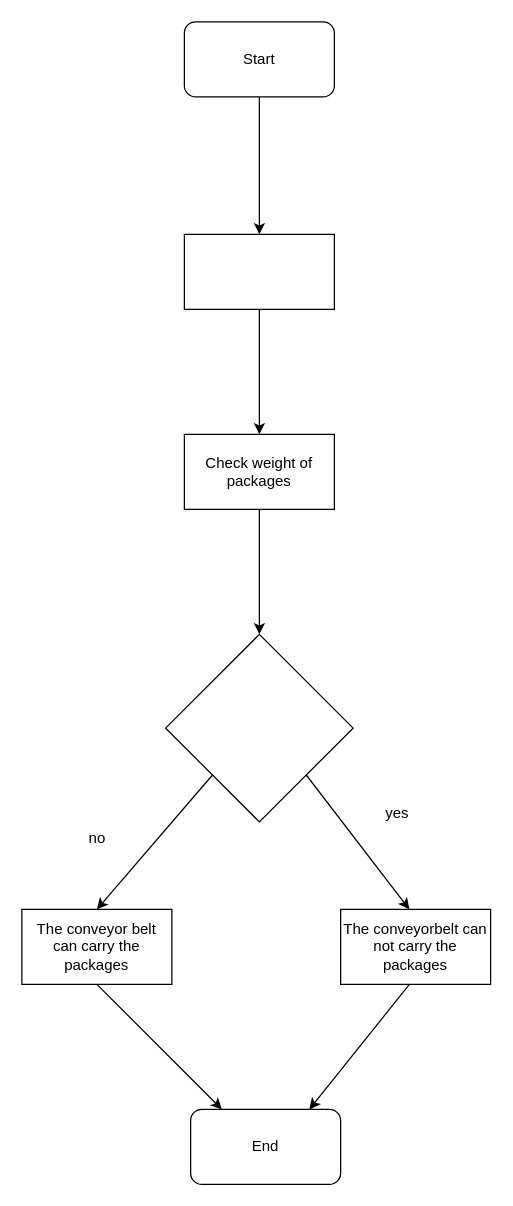
Some shapes in this 513 by 1206 pixel diagram are drawn without their labels. The box of each missing label's shape, as (x1, y1, x2, y2) in pixels:
Check number of motors: (183, 233, 334, 309)
is number of motors divided by packages times 5.6 >=1?: (164, 633, 353, 822)
